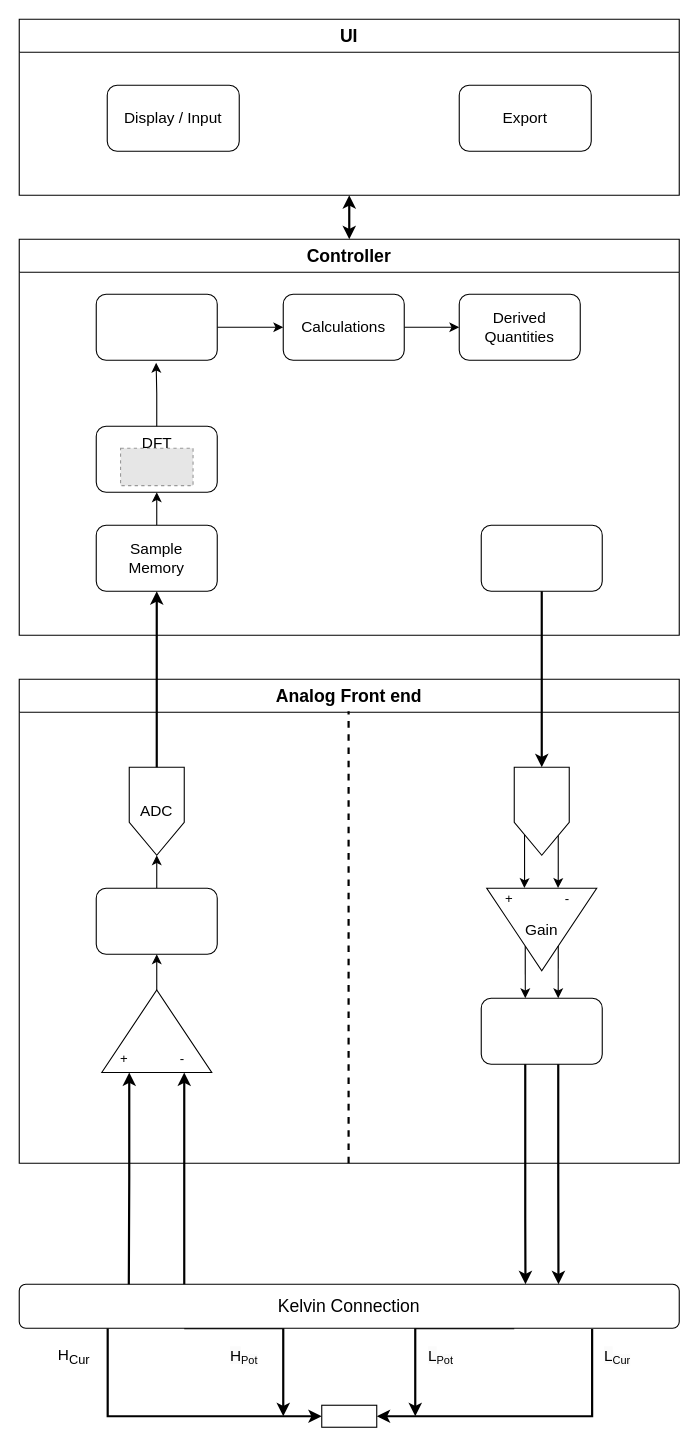
The diagram is 699 pixels wide and 1447 high, and some of its shapes have lost their labels. Grey dashed boxes stand in for pictures. The box of each missing label's shape, as (x1, y1, x2, y2) in pixels:
Bias: (480, 997, 602, 1064)
DAC: (513, 766, 569, 855)
NCO: (480, 524, 602, 591)
Range: (95, 887, 217, 954)
Re Im: (95, 293, 217, 360)
